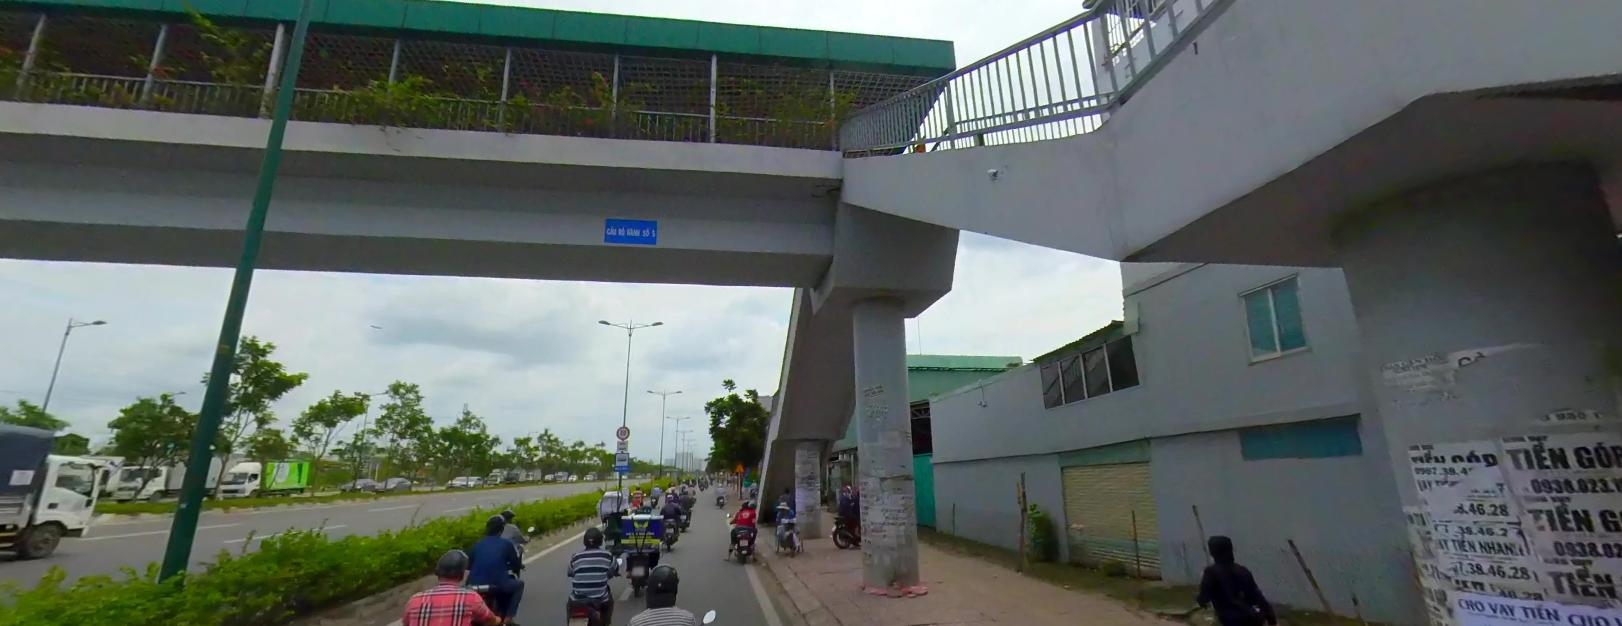Gioi han toc do: (615, 425, 629, 438)
Nguy hiem: (733, 461, 744, 470)
